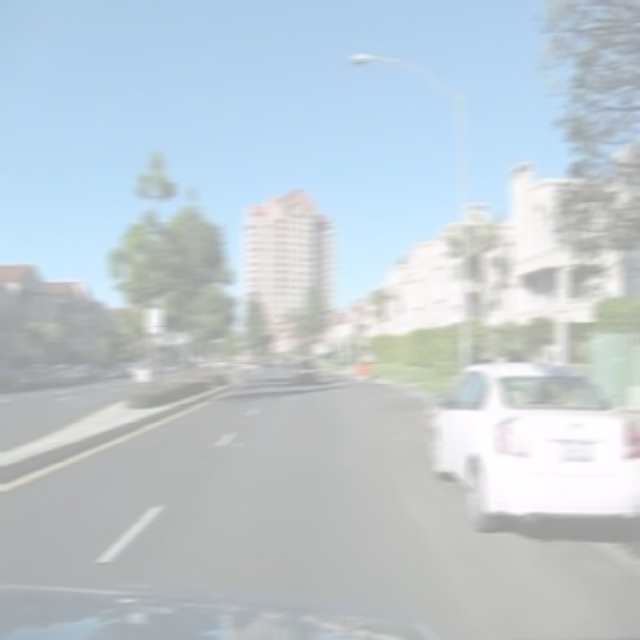speedLimit35: (145, 306, 161, 332)
